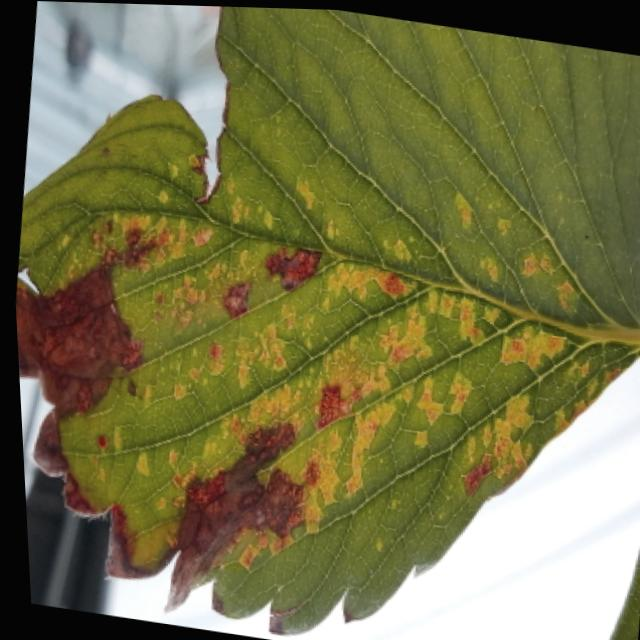Angular Leafspot: (12, 5, 635, 638)
